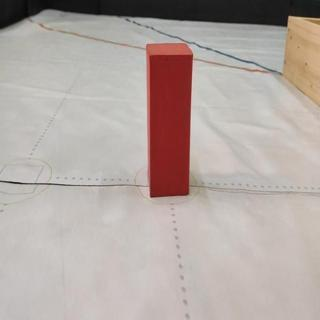redbox: (145, 41, 193, 198)
